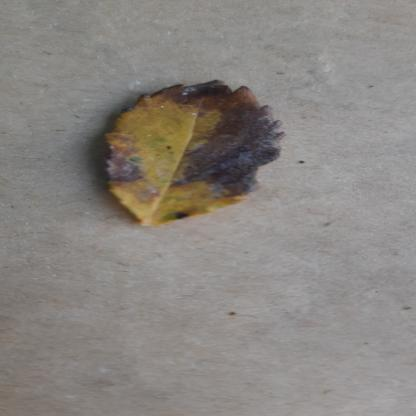black-spot: (90, 79, 292, 230)
